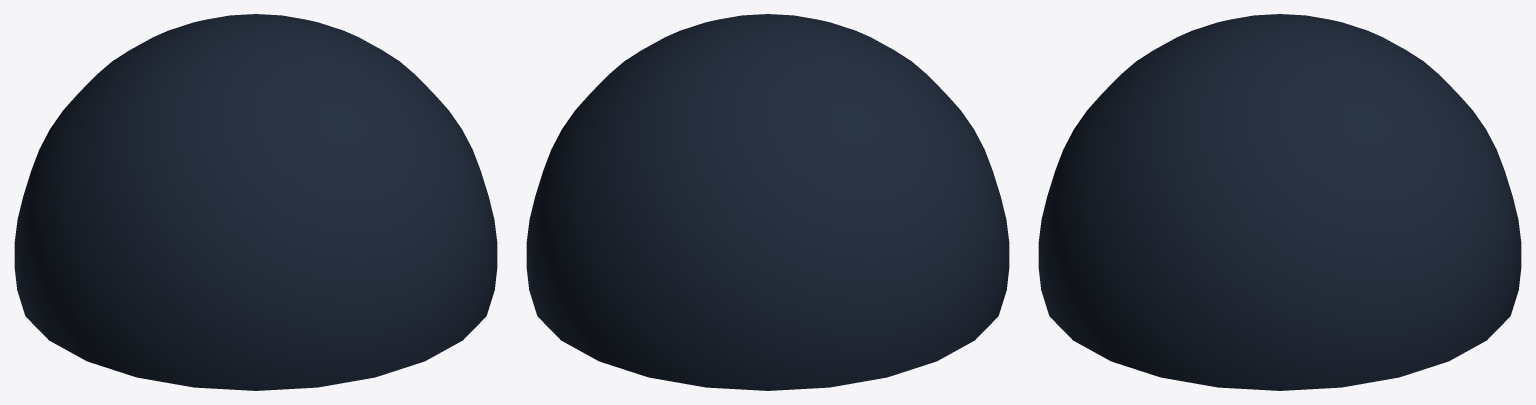
Rendered from short.glb.
3 renders of one model, left to right at view 1: azimuth 30°, elevation 25°; view 2: azimuth 150°, elevation 25°; view 3: azimuth 270°, elevation 25°, orthographic.
Parts seen in each view (by area): view 1: hair_short; view 2: hair_short; view 3: hair_short.
Part boxes in pixels (bbox=[...]): hair_short: bbox=[14, 14, 497, 390]; hair_short: bbox=[526, 14, 1009, 390]; hair_short: bbox=[1038, 14, 1521, 390].
Size of the model in its own units: 9.99 by 5.78 by 9.99.
